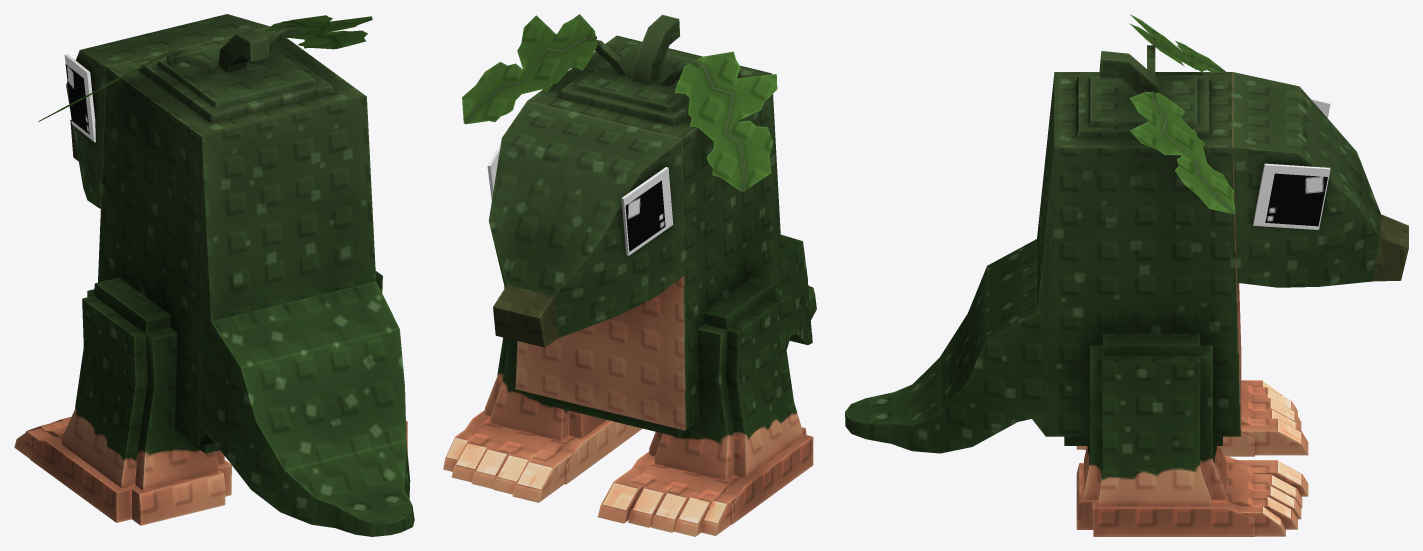
Rendered from Tric Trac Barabum.fbx.
The picture shows the model from 3 angles, left to right: view 1: azimuth 30°, elevation 25°; view 2: azimuth 150°, elevation 25°; view 3: azimuth 270°, elevation 25°; orthographic projection. The views are drawn at different scales.
Visible parts, largest first — view 1: Tric Trac Barabum; view 2: Tric Trac Barabum; view 3: Tric Trac Barabum.
Boxes of the visible parts, x1,y1,x2,y2 form: Tric Trac Barabum: (14,14,414,536); Tric Trac Barabum: (443,14,816,536); Tric Trac Barabum: (845,14,1408,536).
Size of the model in its own units: 391 by 505 by 620.
